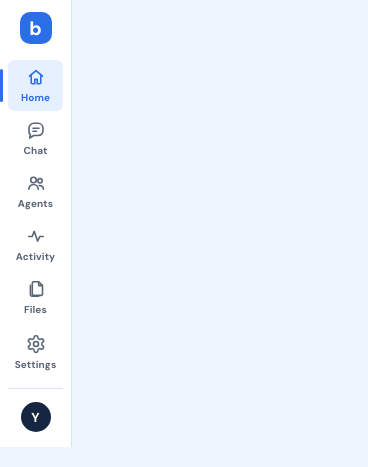
Scenario: Reload in the owner menu › is not there in a browser tab
The width and height of the screenshot is (368, 467).
Click the button named "You".
click(36, 417)  # box [18,399,54,435]
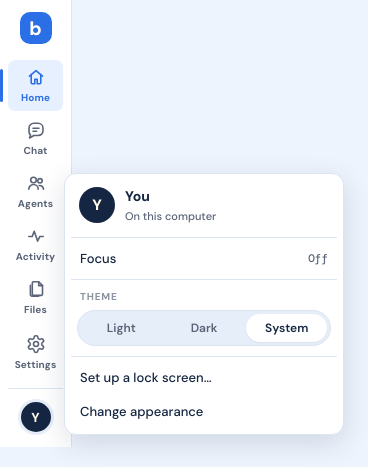
Expected: the menu item "Change appearance" is shown, [80,402,203,420]
